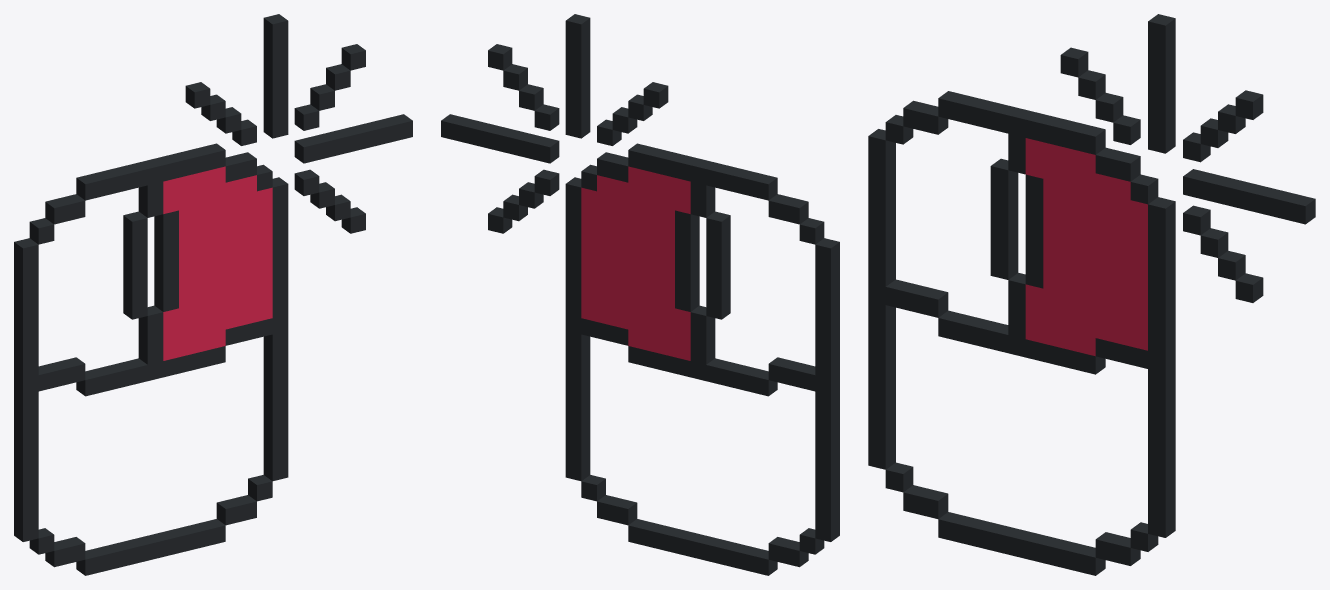
Rendered from ClicGaucheModel.fbx.
3 views of the same model, side by side, from view 1: azimuth 30°, elevation 25°; view 2: azimuth 150°, elevation 25°; view 3: azimuth 330°, elevation 25° (orthographic). The views are drawn at different scales.
Parts seen in each view (by area): view 1: generated; view 2: generated; view 3: generated.
Boxes of the visible parts, <box> form: generated: <box>14,14,412,575</box>; generated: <box>441,14,839,575</box>; generated: <box>868,14,1315,575</box>.
Bounding box in the file's own units: 250 × 310 × 10.
